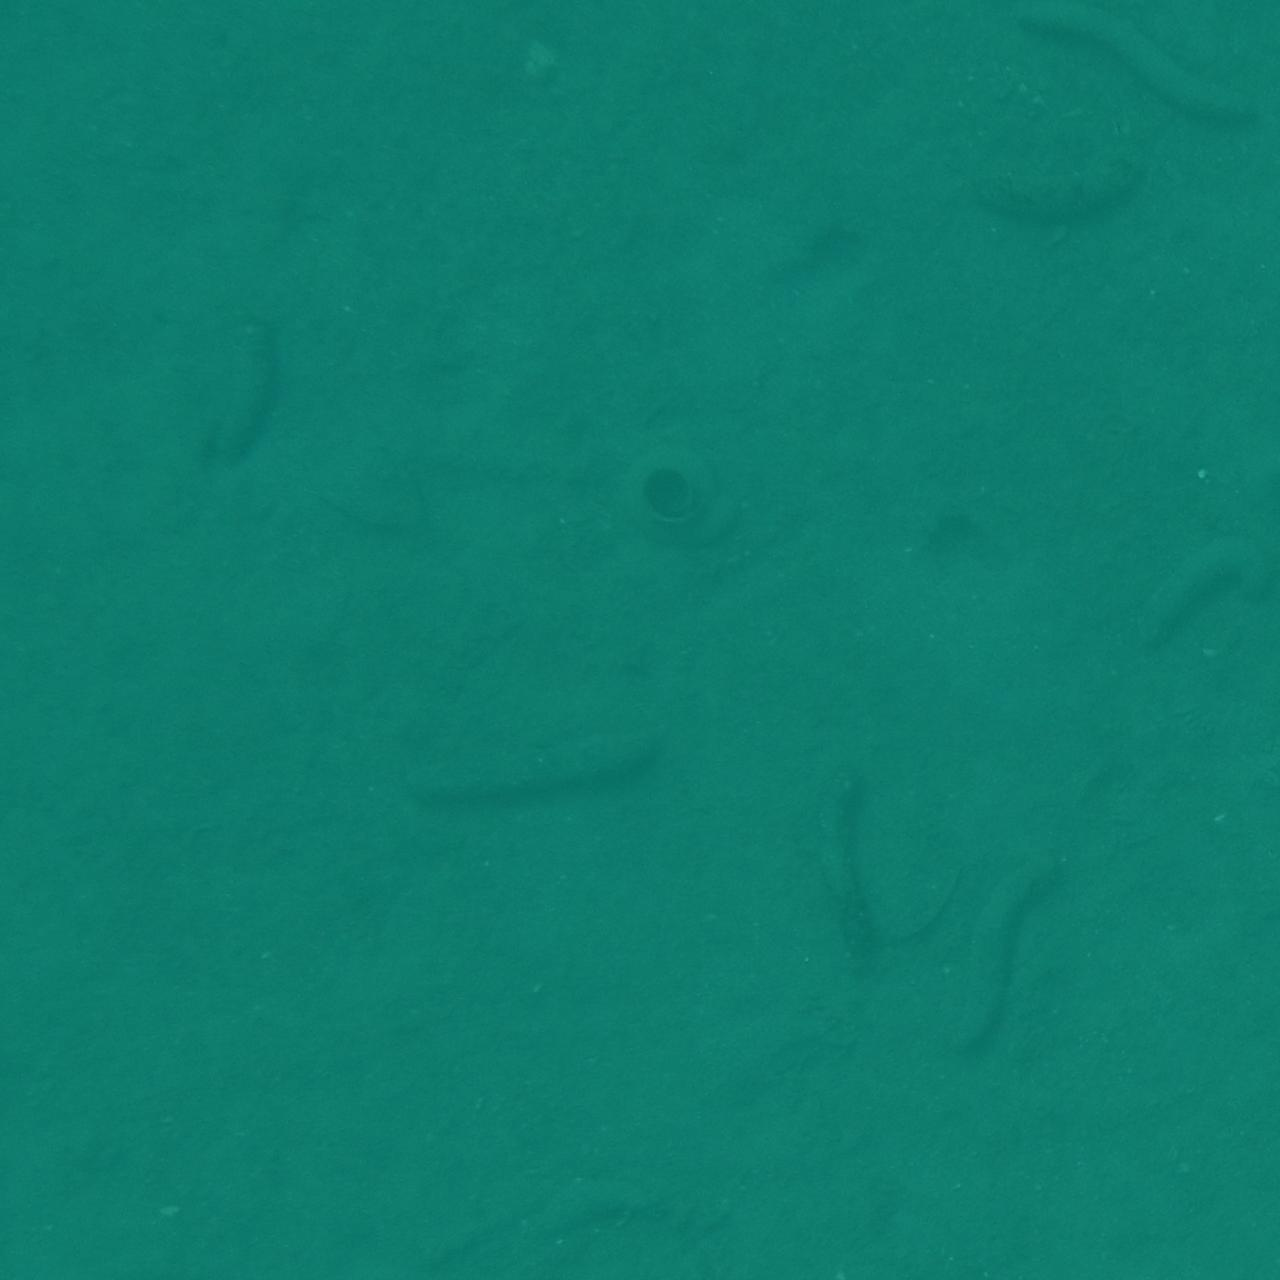Holothuria tubulosa: (1007, 0, 1275, 127), (944, 850, 1084, 1084), (390, 717, 692, 821), (817, 747, 917, 998), (940, 144, 1171, 250), (0, 370, 123, 558), (0, 0, 186, 115), (518, 1164, 754, 1254), (185, 319, 302, 495), (1132, 515, 1280, 652), (825, 0, 1061, 68), (1212, 254, 1280, 483), (1058, 0, 1205, 91), (0, 0, 77, 168), (0, 1170, 116, 1280), (1191, 0, 1280, 136), (686, 0, 851, 72), (0, 492, 86, 629), (0, 0, 132, 84), (0, 1211, 144, 1280), (355, 1172, 444, 1280), (0, 0, 142, 66), (1143, 0, 1280, 66), (1200, 0, 1280, 83)
